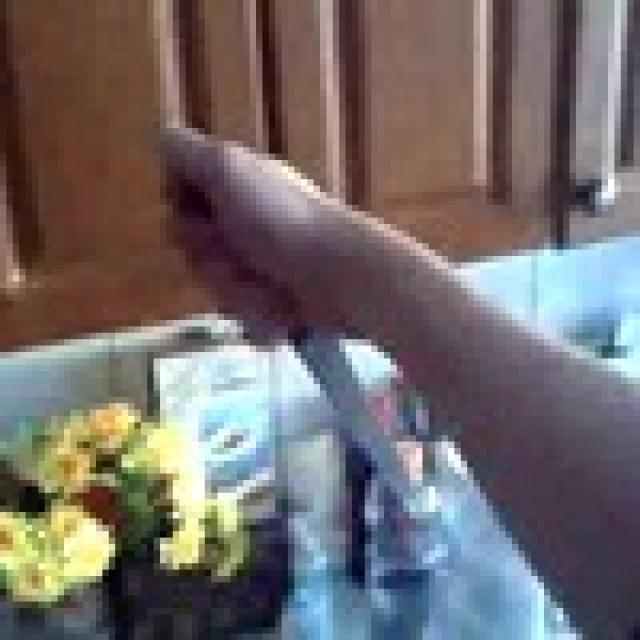weapon: (180, 166, 422, 518)
